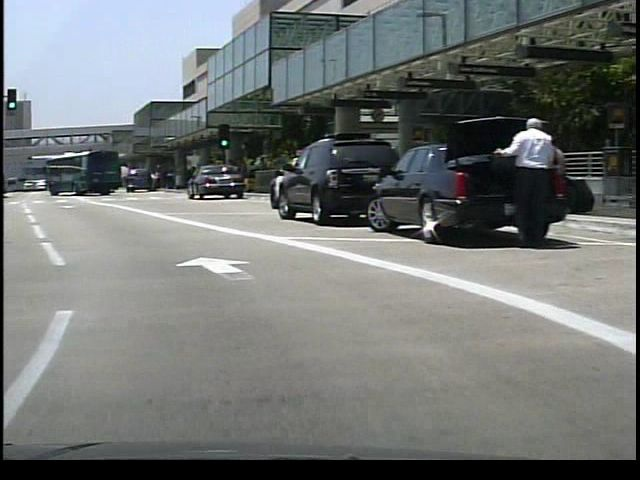person: (487, 102, 557, 255), (553, 134, 554, 217)
